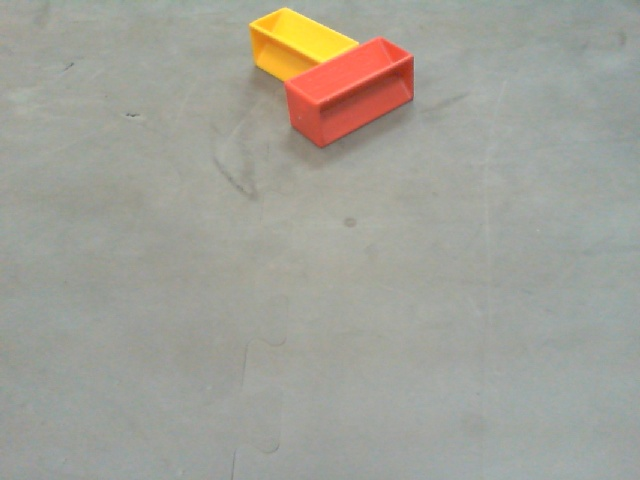RedSample: (287, 38, 415, 150)
YellowSample: (250, 6, 360, 79)
